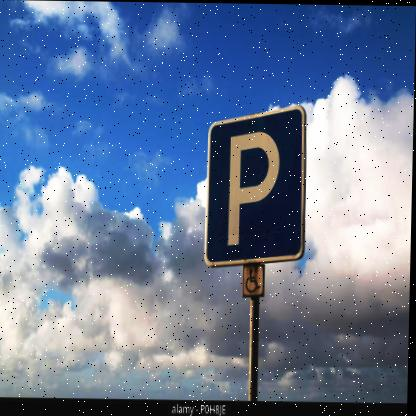Parking: (202, 119, 309, 261)
